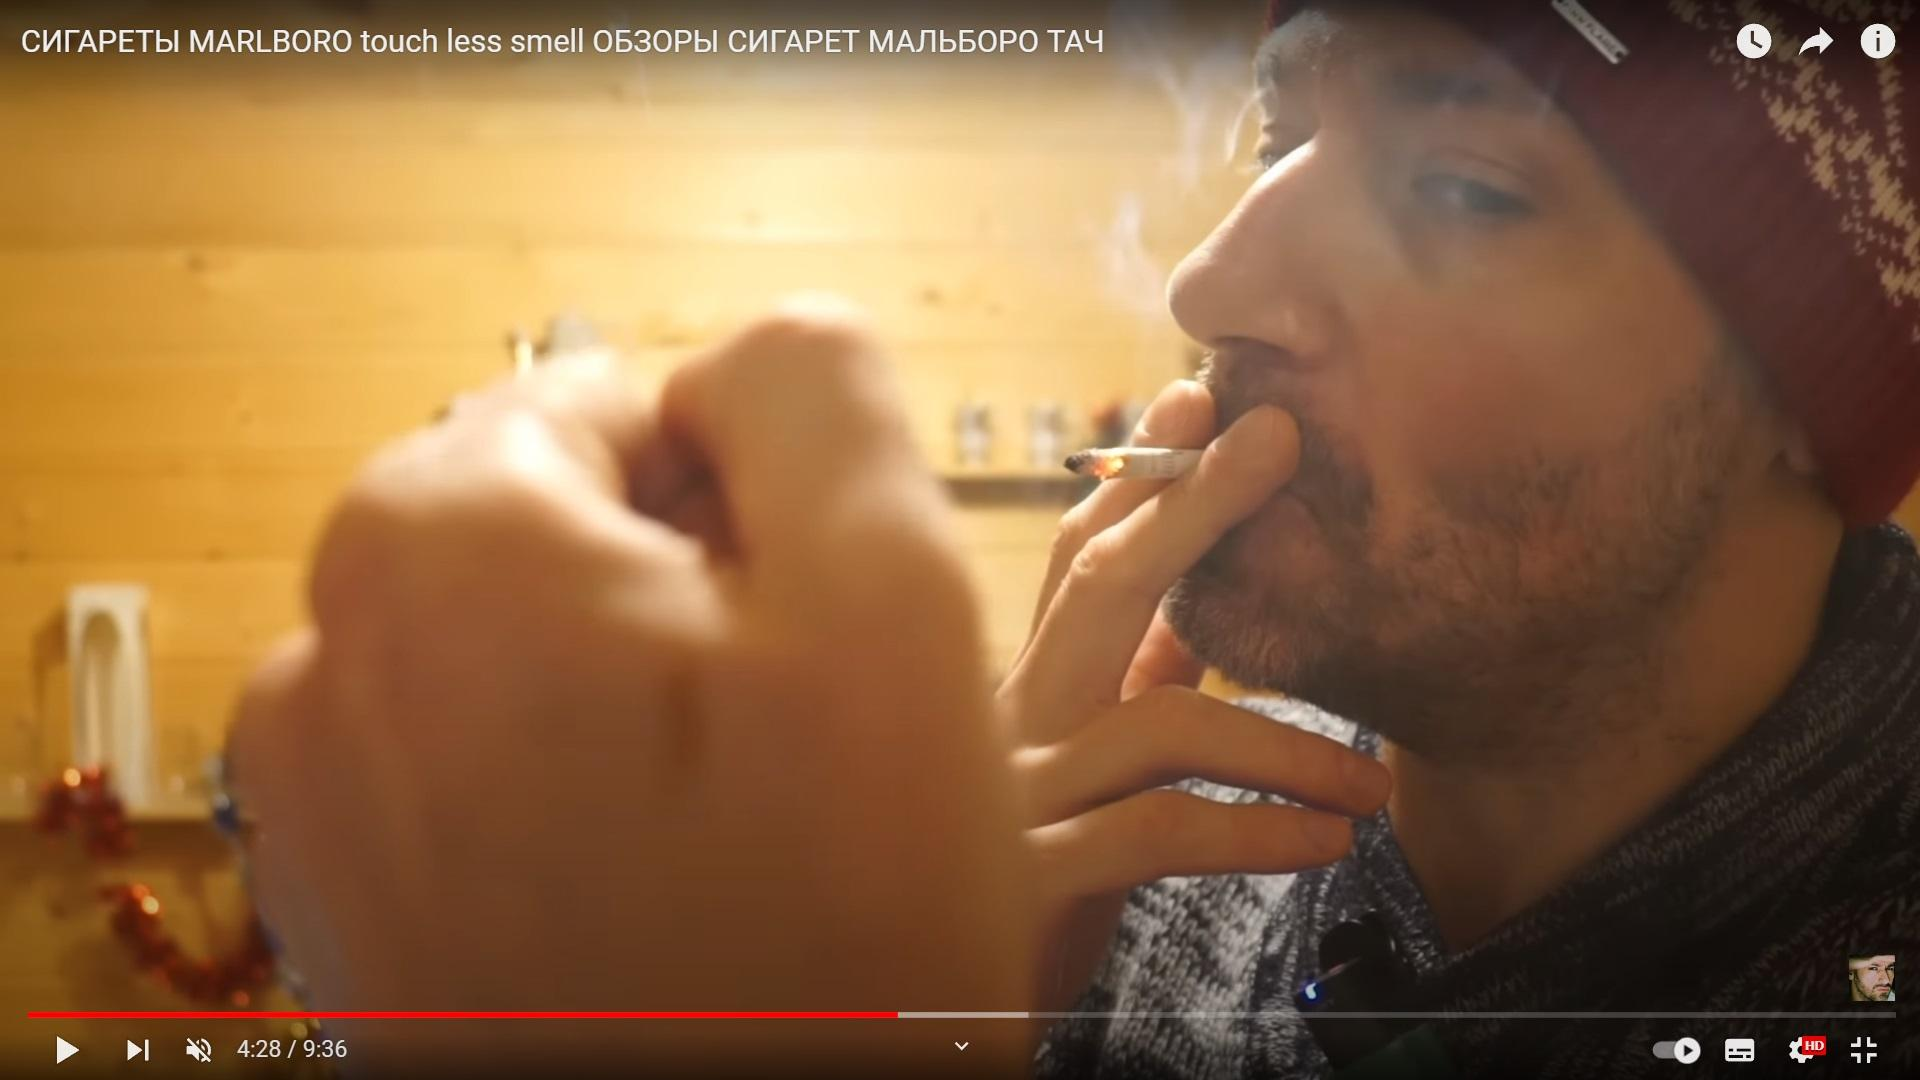cigarette: (1063, 447, 1205, 481)
